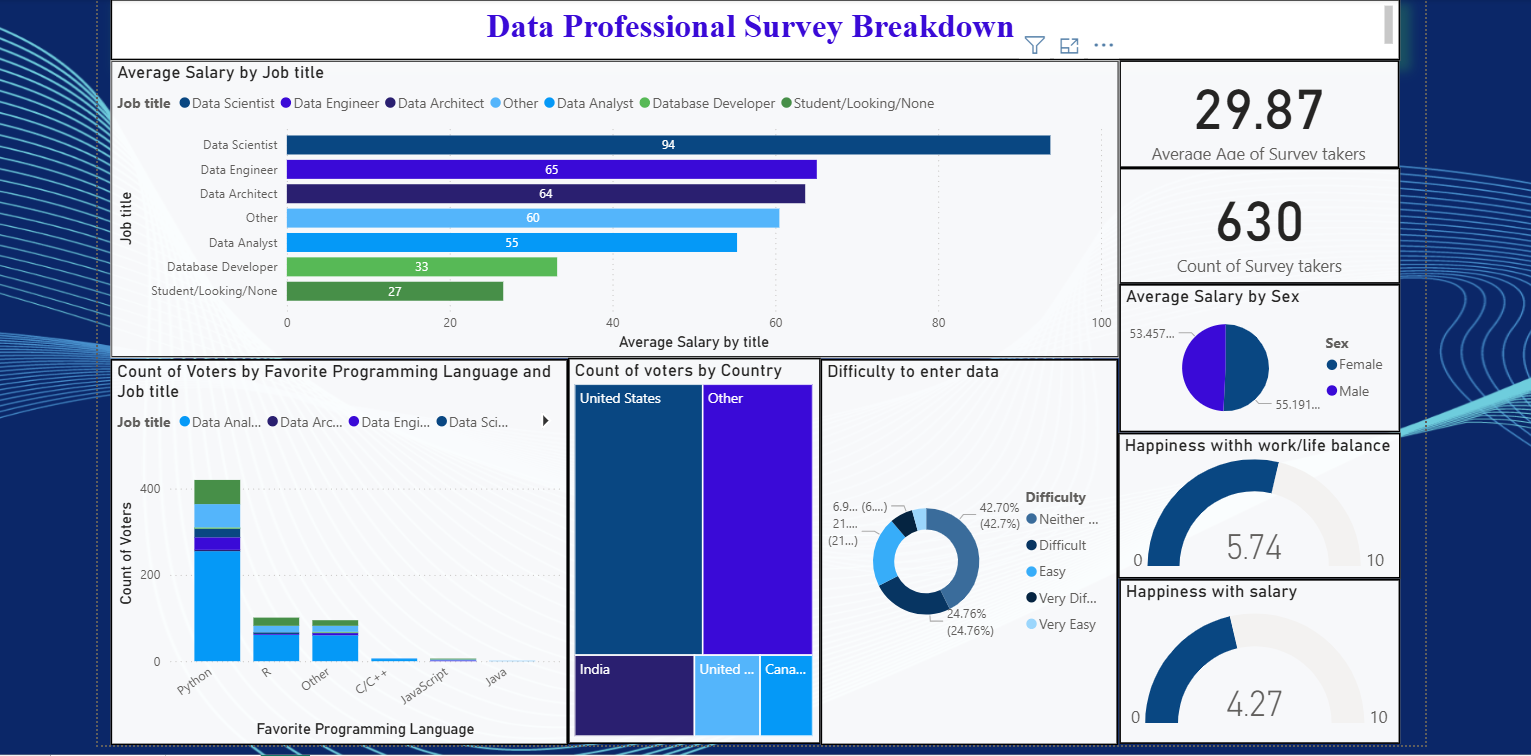

The dashboard page shown, as its layout file describes it:
{"tool":"powerbi","page":{"name":"Overview","canvas":[1280,720],"ordinal":0},"visuals":[{"type":"textbox","box":[12.3,0,1244.6,59],"z":0},{"type":"card","fields":{"Values":["Count(Data Professional Survey.Unique ID)"]},"box":[985.7,162.9,271.4,112.2],"z":1000},{"type":"card","fields":{"Values":["Avg(Data Professional Survey.Q10 - Current Age)"]},"box":[985.7,59.1,270.2,103.8],"z":2000},{"type":"barChart","title":"Average Salary by Job title ","fields":{"Y":["Avg(Data Professional Survey.Q3 - Average Yearly Salary (in USD-thousands))"],"Category":["Data Professional Survey.Q1 - Which Title Best Fits your Current Role?.1"],"Series":["Data Professional Survey.Q1 - Which Title Best Fits your Current Role?.1"]},"box":[12.1,59.1,973.6,287.1],"z":3000},{"type":"columnChart","fields":{"Y":["CountNonNull(Data Professional Survey.Unique ID)"],"Category":["Data Professional Survey.Q5 - Favorite Programming Language.1"],"Series":["Data Professional Survey.Q1 - Which Title Best Fits your Current Role?.1"]},"box":[12.1,347.5,441.6,372.8],"z":4000},{"type":"treemap","fields":{"Group":["Data Professional Survey.Q11 - Which Country do you live in?.1"],"Values":["CountNonNull(Data Professional Survey.Q11 - Which Country do you live in?.1)"]},"box":[453.6,346.2,243.7,372.8],"z":5000},{"type":"gauge","title":"Happiness withh work/life balance","fields":{"Y":["Avg(Data Professional Survey.Q6 - How Happy are you in your Current Position with the following? (Work/Life Balance))"],"MaxValue":["Max(Data Professional Survey.Q6 - How Happy are you in your Current Position with the following? (Work/Life Balance))1"],"MinValue":["Min(Data Professional Survey.Q6 - How Happy are you in your Current Position with the following? (Work/Life Balance))2"]},"box":[984.5,418.6,272.7,141.2],"z":6000},{"type":"gauge","title":"Happiness with salary","fields":{"Y":["Avg(Data Professional Survey.Q6 - How Happy are you in your Current Position with the following? (Salary))"],"MinValue":["Min(Data Professional Survey.Q6 - How Happy are you in your Current Position with the following? (Salary))"],"MaxValue":["Max(Data Professional Survey.Q6 - How Happy are you in your Current Position with the following? (Salary))"]},"box":[985.7,559.8,271.4,159.3],"z":7000},{"type":"pieChart","fields":{"Category":["Data Professional Survey.Q9 - Male/Female?"],"Y":["Avg(Data Professional Survey.Q3 - Average Yearly Salary (in USD-thousands))"]},"box":[985.7,275.1,271.4,143.6],"z":8000},{"type":"donutChart","title":"Difficulty to enter data","fields":{"Category":["Data Professional Survey.Q7 - How difficult was it for you to break into Data?"],"Y":["CountNonNull(Data Professional Survey.Q7 - How difficult was it for you to break into Data?)"]},"box":[697.3,347.5,287.1,372.8],"z":9000}]}

Visuals, with their boxes in screenshot pixels (x1, y1, x2, y2):
textbox: (104, 0, 1396, 57)
card - Count(Data Professional Survey.Unique ID): (1114, 165, 1396, 281)
card - Avg(Data Professional Survey.Q10 - Current Age): (1114, 57, 1395, 165)
"Average Salary by Job title " barChart: (104, 57, 1114, 355)
columnChart - CountNonNull(Data Professional Survey.Unique ID) x Data Professional Survey.Q5 - Favorite Programming Language.1: (104, 357, 562, 743)
treemap - Data Professional Survey.Q11 - Which Country do you live in?.1 x CountNonNull(Data Professional Survey.Q11 - Which Country do you live in?.1): (562, 355, 815, 742)
"Happiness withh work/life balance" gauge: (1113, 430, 1396, 577)
"Happiness with salary" gauge: (1114, 577, 1396, 742)
pieChart - Data Professional Survey.Q9 - Male/Female? x Avg(Data Professional Survey.Q3 - Average Yearly Salary (in USD-thousands)): (1114, 281, 1396, 430)
"Difficulty to enter data" donutChart: (815, 357, 1113, 743)
